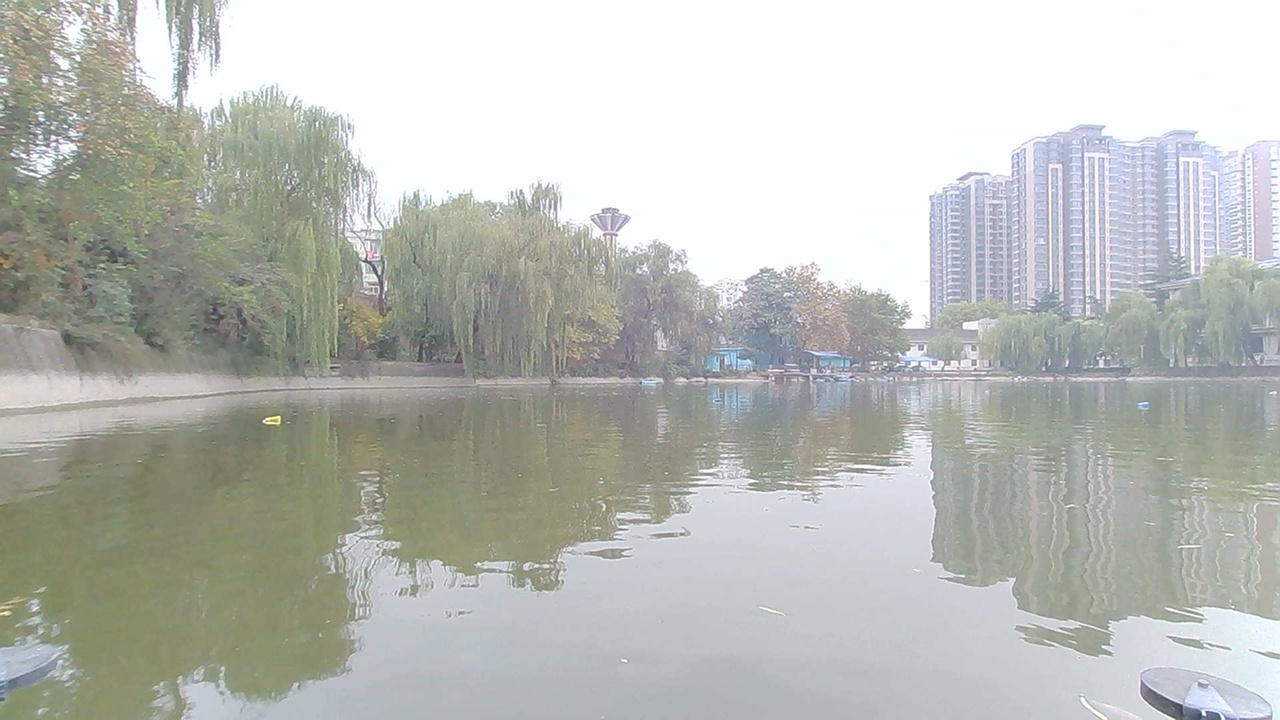bottle: (258, 408, 292, 431), (1132, 393, 1163, 416), (707, 393, 736, 408)
